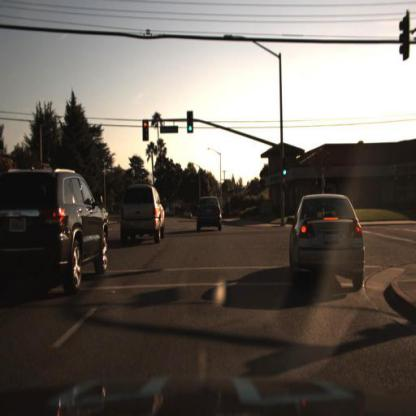car: (1, 149, 111, 304), (283, 183, 383, 291), (289, 195, 370, 294), (114, 179, 172, 254), (189, 185, 229, 240)
trafficLight-Green: (186, 111, 195, 135), (281, 164, 289, 183)
trafficLight-RedLeft: (141, 117, 151, 138)
